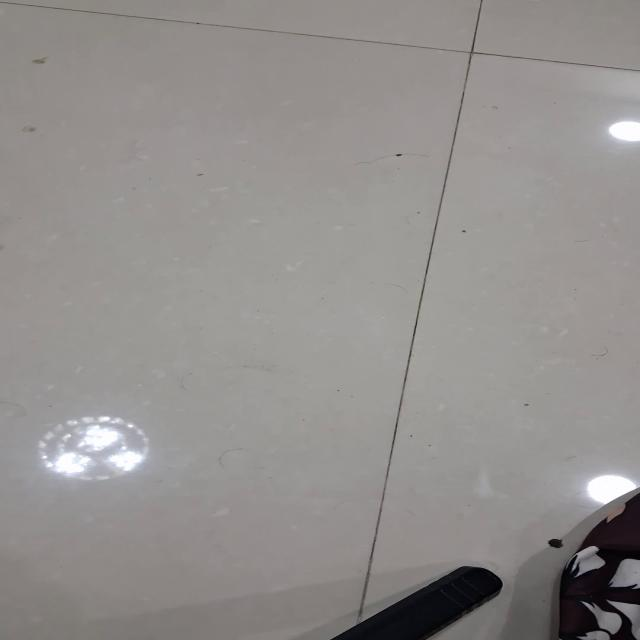paper: (2, 1, 638, 640)
